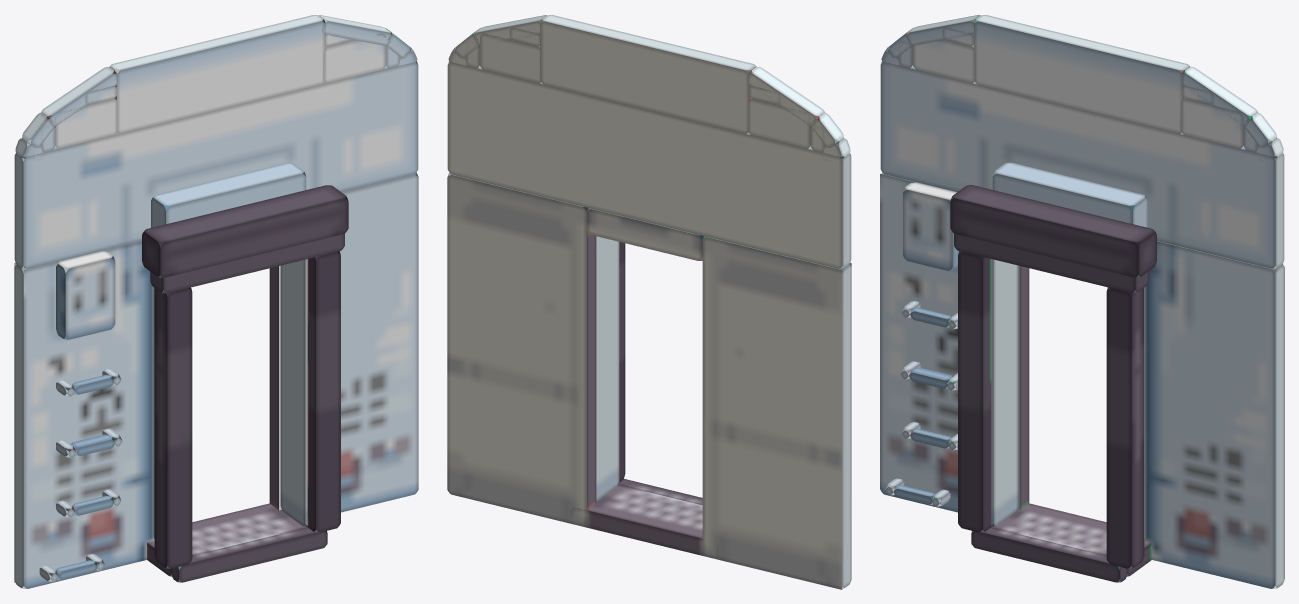
Rendered from end_face_original_rubber_25t_1.obj.
3 renders of one model, left to right at view 1: azimuth 30°, elevation 25°; view 2: azimuth 150°, elevation 25°; view 3: azimuth 330°, elevation 25°, orthographic.
Visible parts, largest first — view 1: cube; view 2: cube; view 3: cube.
Boxes of the visible parts, x1=… form: cube: x1=14, y1=15, x2=418, y2=588; cube: x1=447, y1=15, x2=851, y2=589; cube: x1=880, y1=15, x2=1284, y2=588.
Bounding box in the file's own units: 3 × 3.58 × 0.5594.
